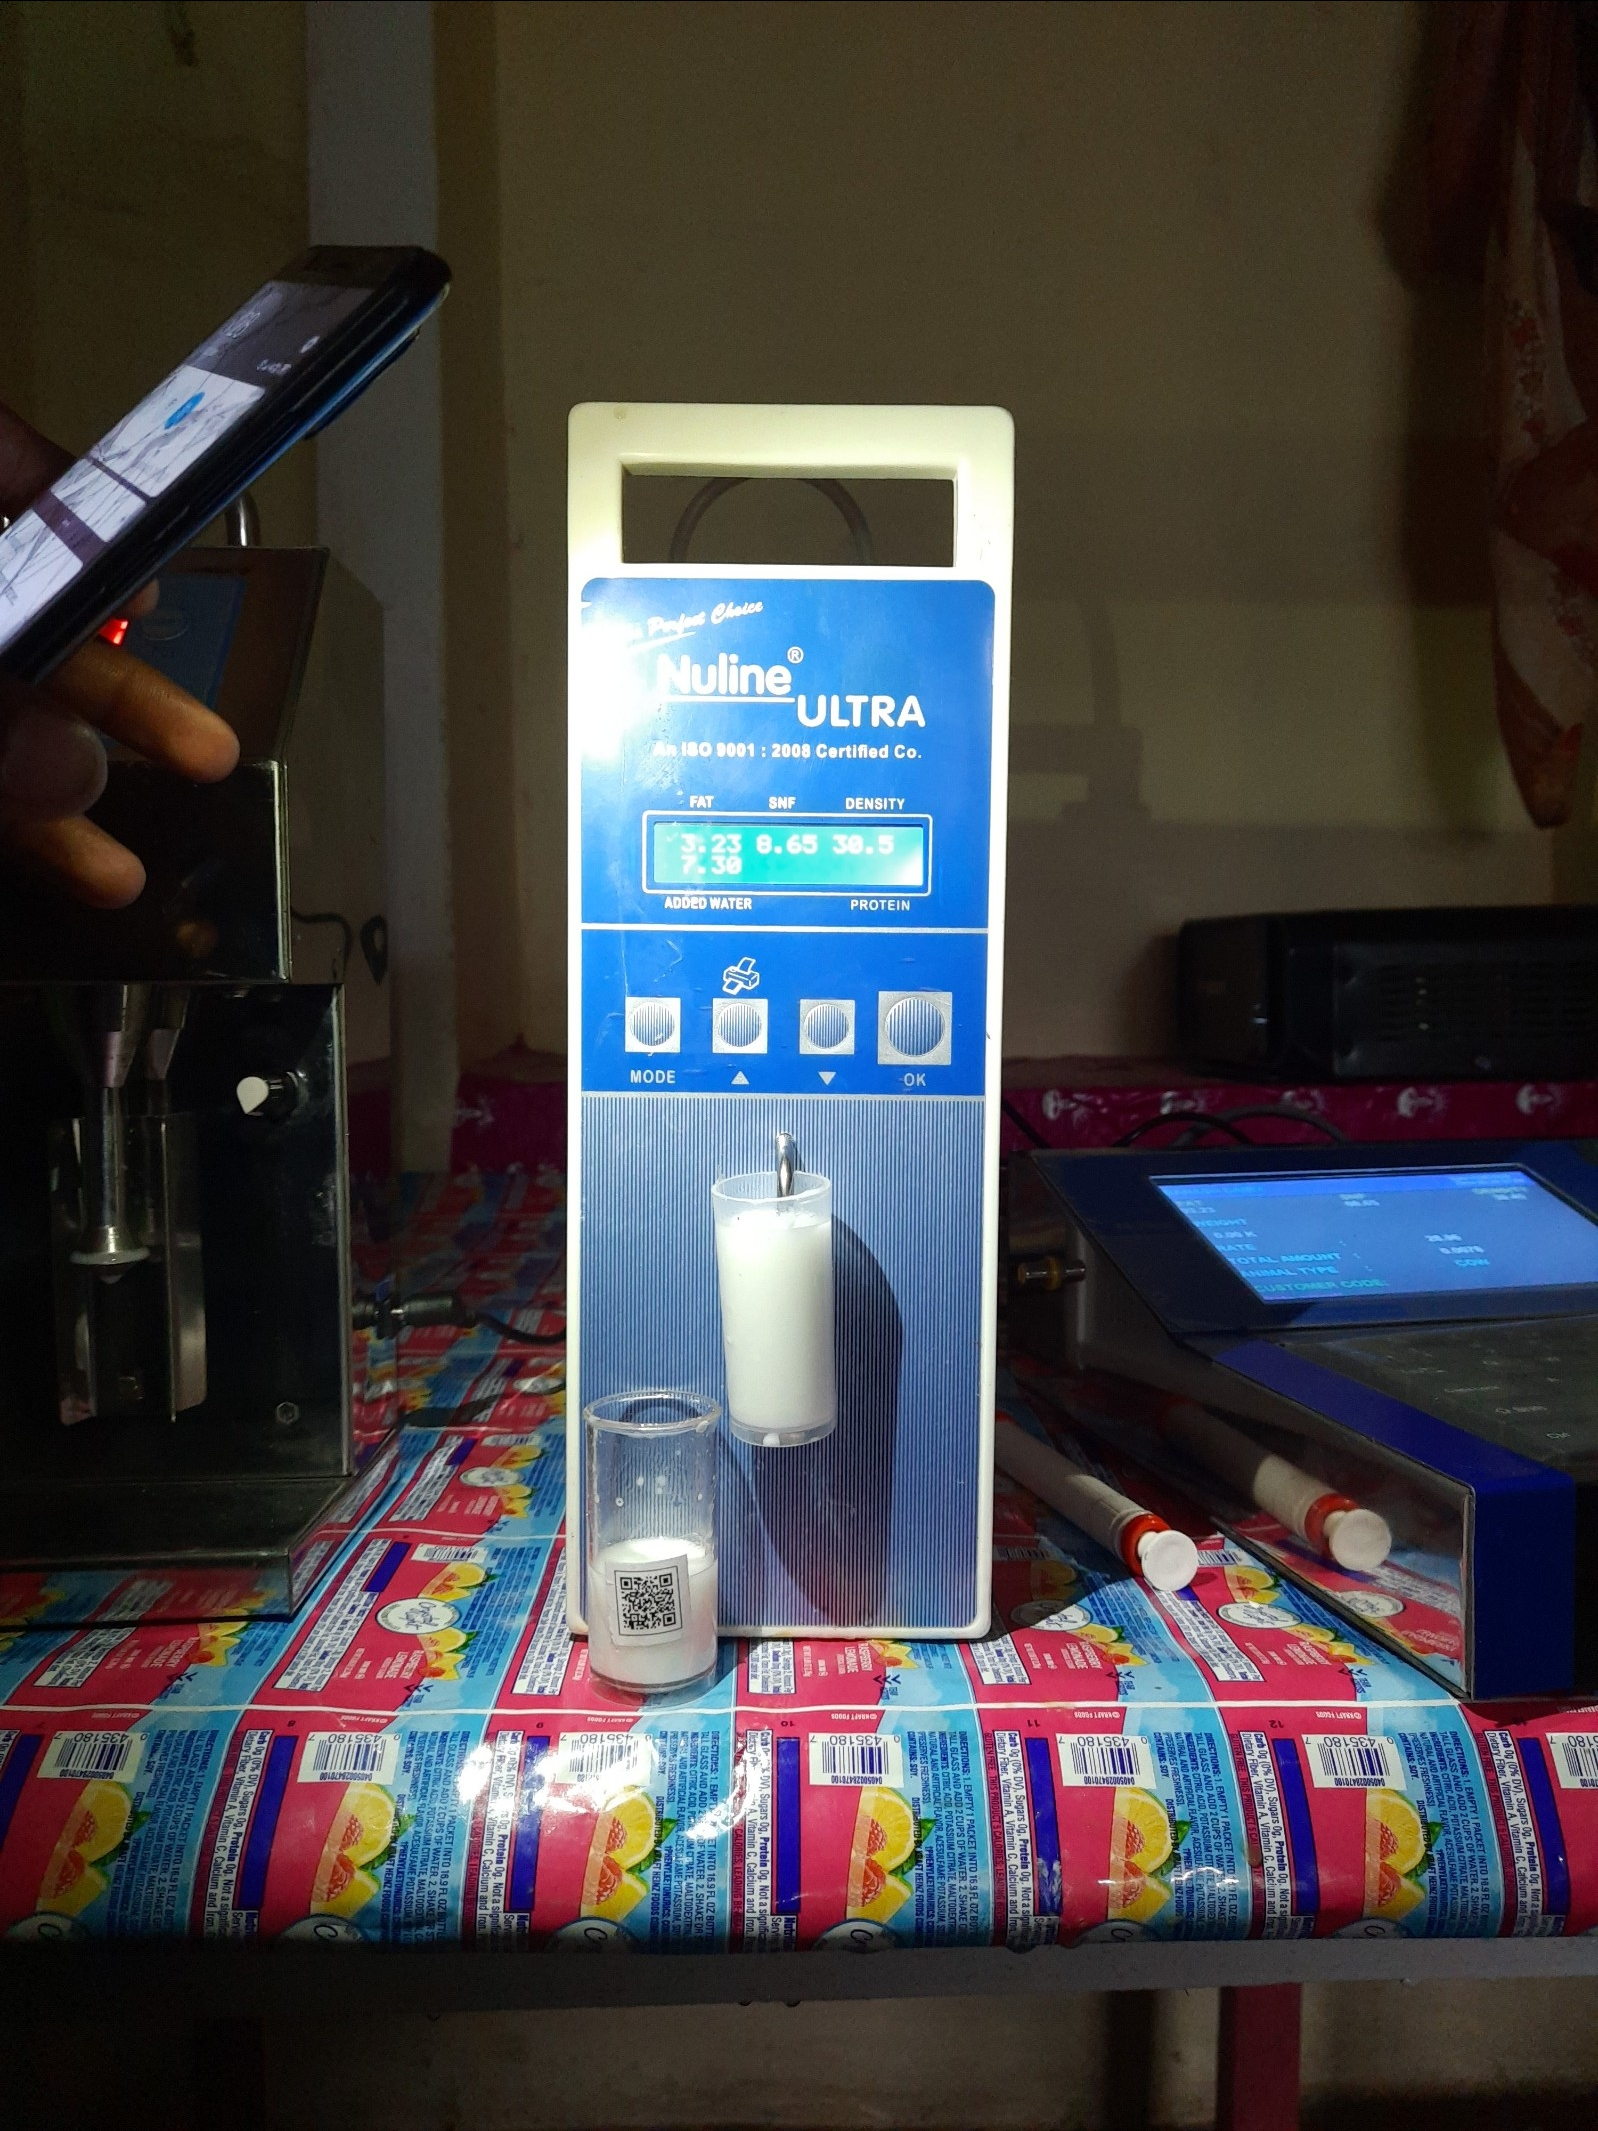lcd: (641, 814, 948, 913)
qr: (613, 1566, 707, 1649)
